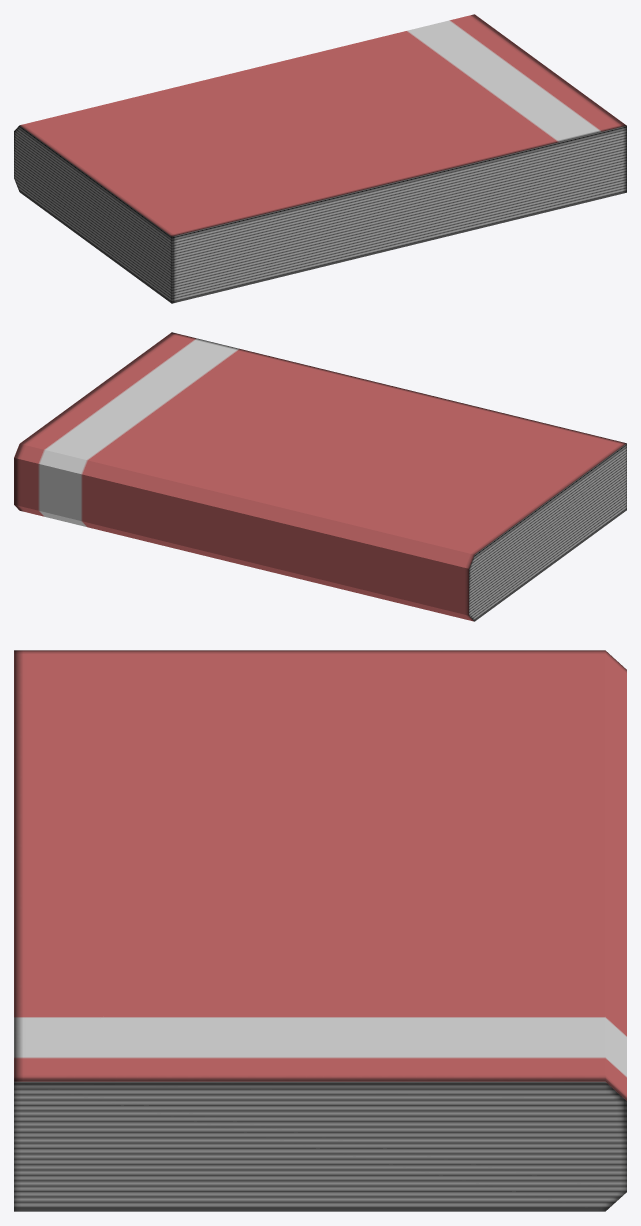
Rendered from book4.fbx.
3 views of the same model, one above another, from view 1: azimuth 30°, elevation 25°; view 2: azimuth 150°, elevation 25°; view 3: azimuth 270°, elevation 25° (orthographic). The views are drawn at different scales.
Parts seen in each view (by area): view 1: polySurface1128; view 2: polySurface1128; view 3: polySurface1128.
Part boxes in pixels (x1,y1,x2,y2): polySurface1128: (14, 14, 626, 303); polySurface1128: (14, 332, 626, 621); polySurface1128: (14, 650, 626, 1211).
Bounding box in the file's own units: 0.4212 × 0.0592 × 0.253.
